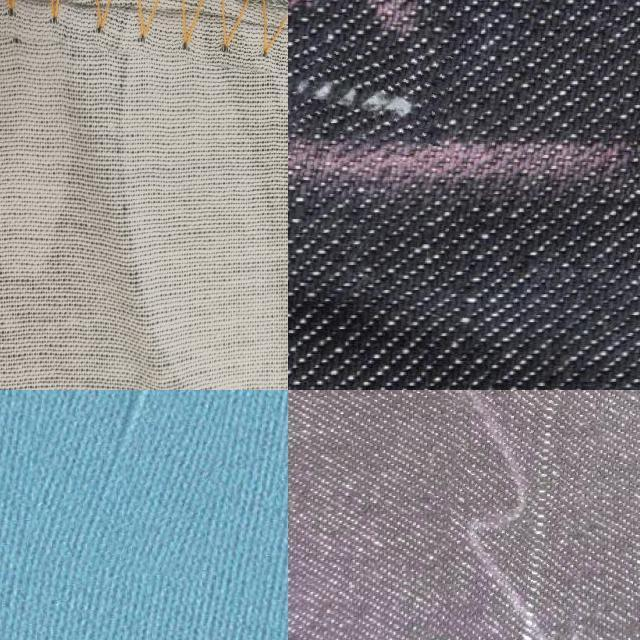stains: (433, 390, 621, 640), (37, 390, 241, 575), (288, 34, 449, 139)
